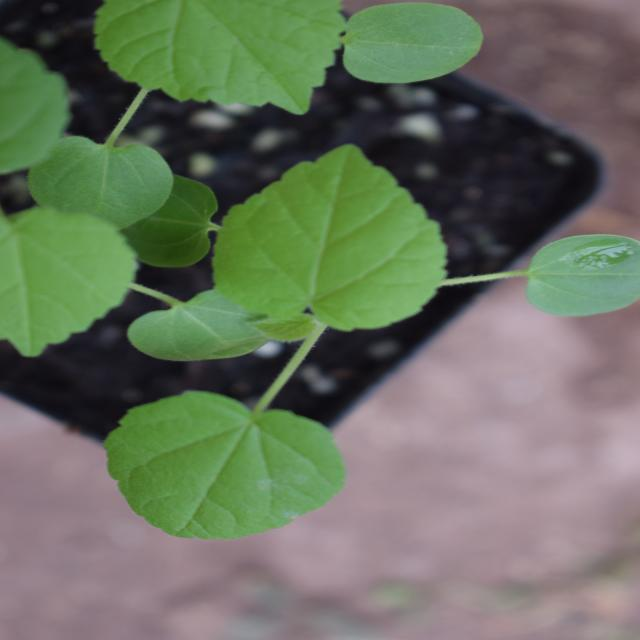abutilon theophrasti: (146, 119, 521, 585)
